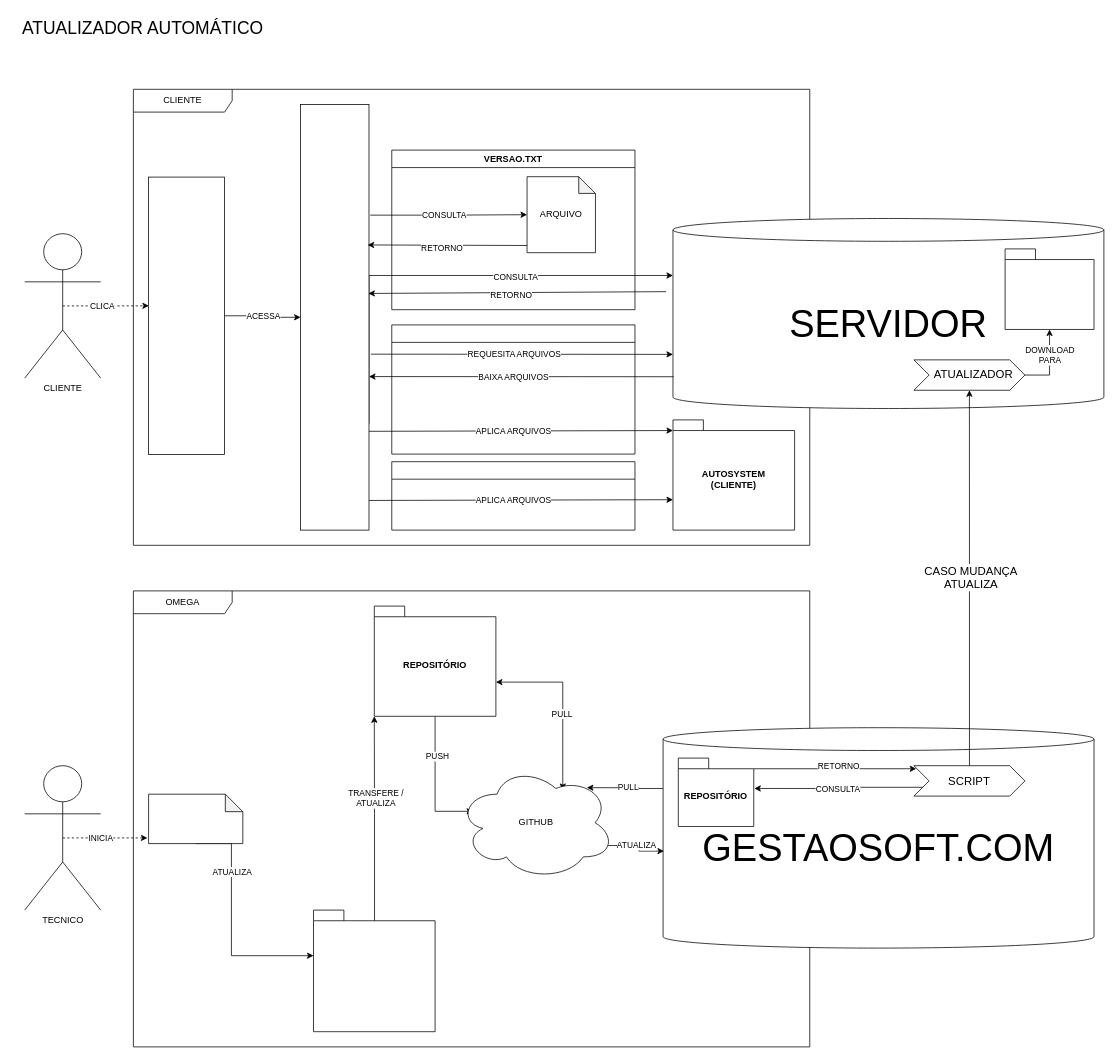
Image size: 1117x1060. Some labels were removed from this diagram. Here are the shapes that lost their labels. From the top down, the centre of each, then its label:
At point 1049,288: "FILES".
At point 186,315: "ATALHO CONFIGURADO".
At point 334,317: "asupdchk.exe".
At point 513,389: "VERSAO.TXT DIFERENTE".
At point 513,495: "VERSAO.TXT IGUAL".
At point 195,818: "MANUTENCAO.EXE".
At point 374,970: "AUTOSYSTEM (OMEGA)".
